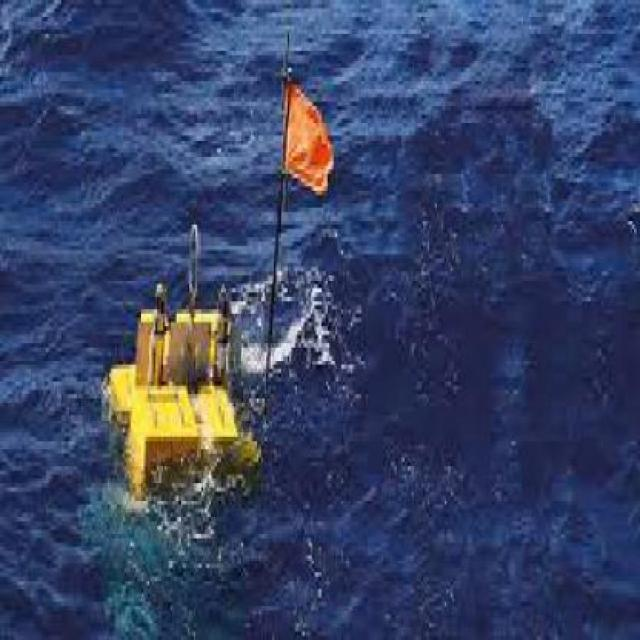buoy: (91, 196, 274, 527)
